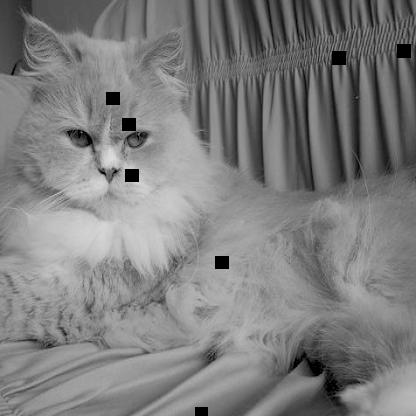cat: (1, 13, 415, 399)
